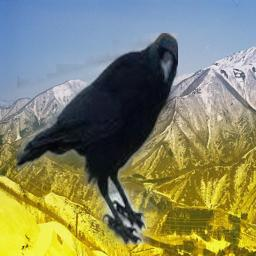Crow: (17, 33, 178, 245)
